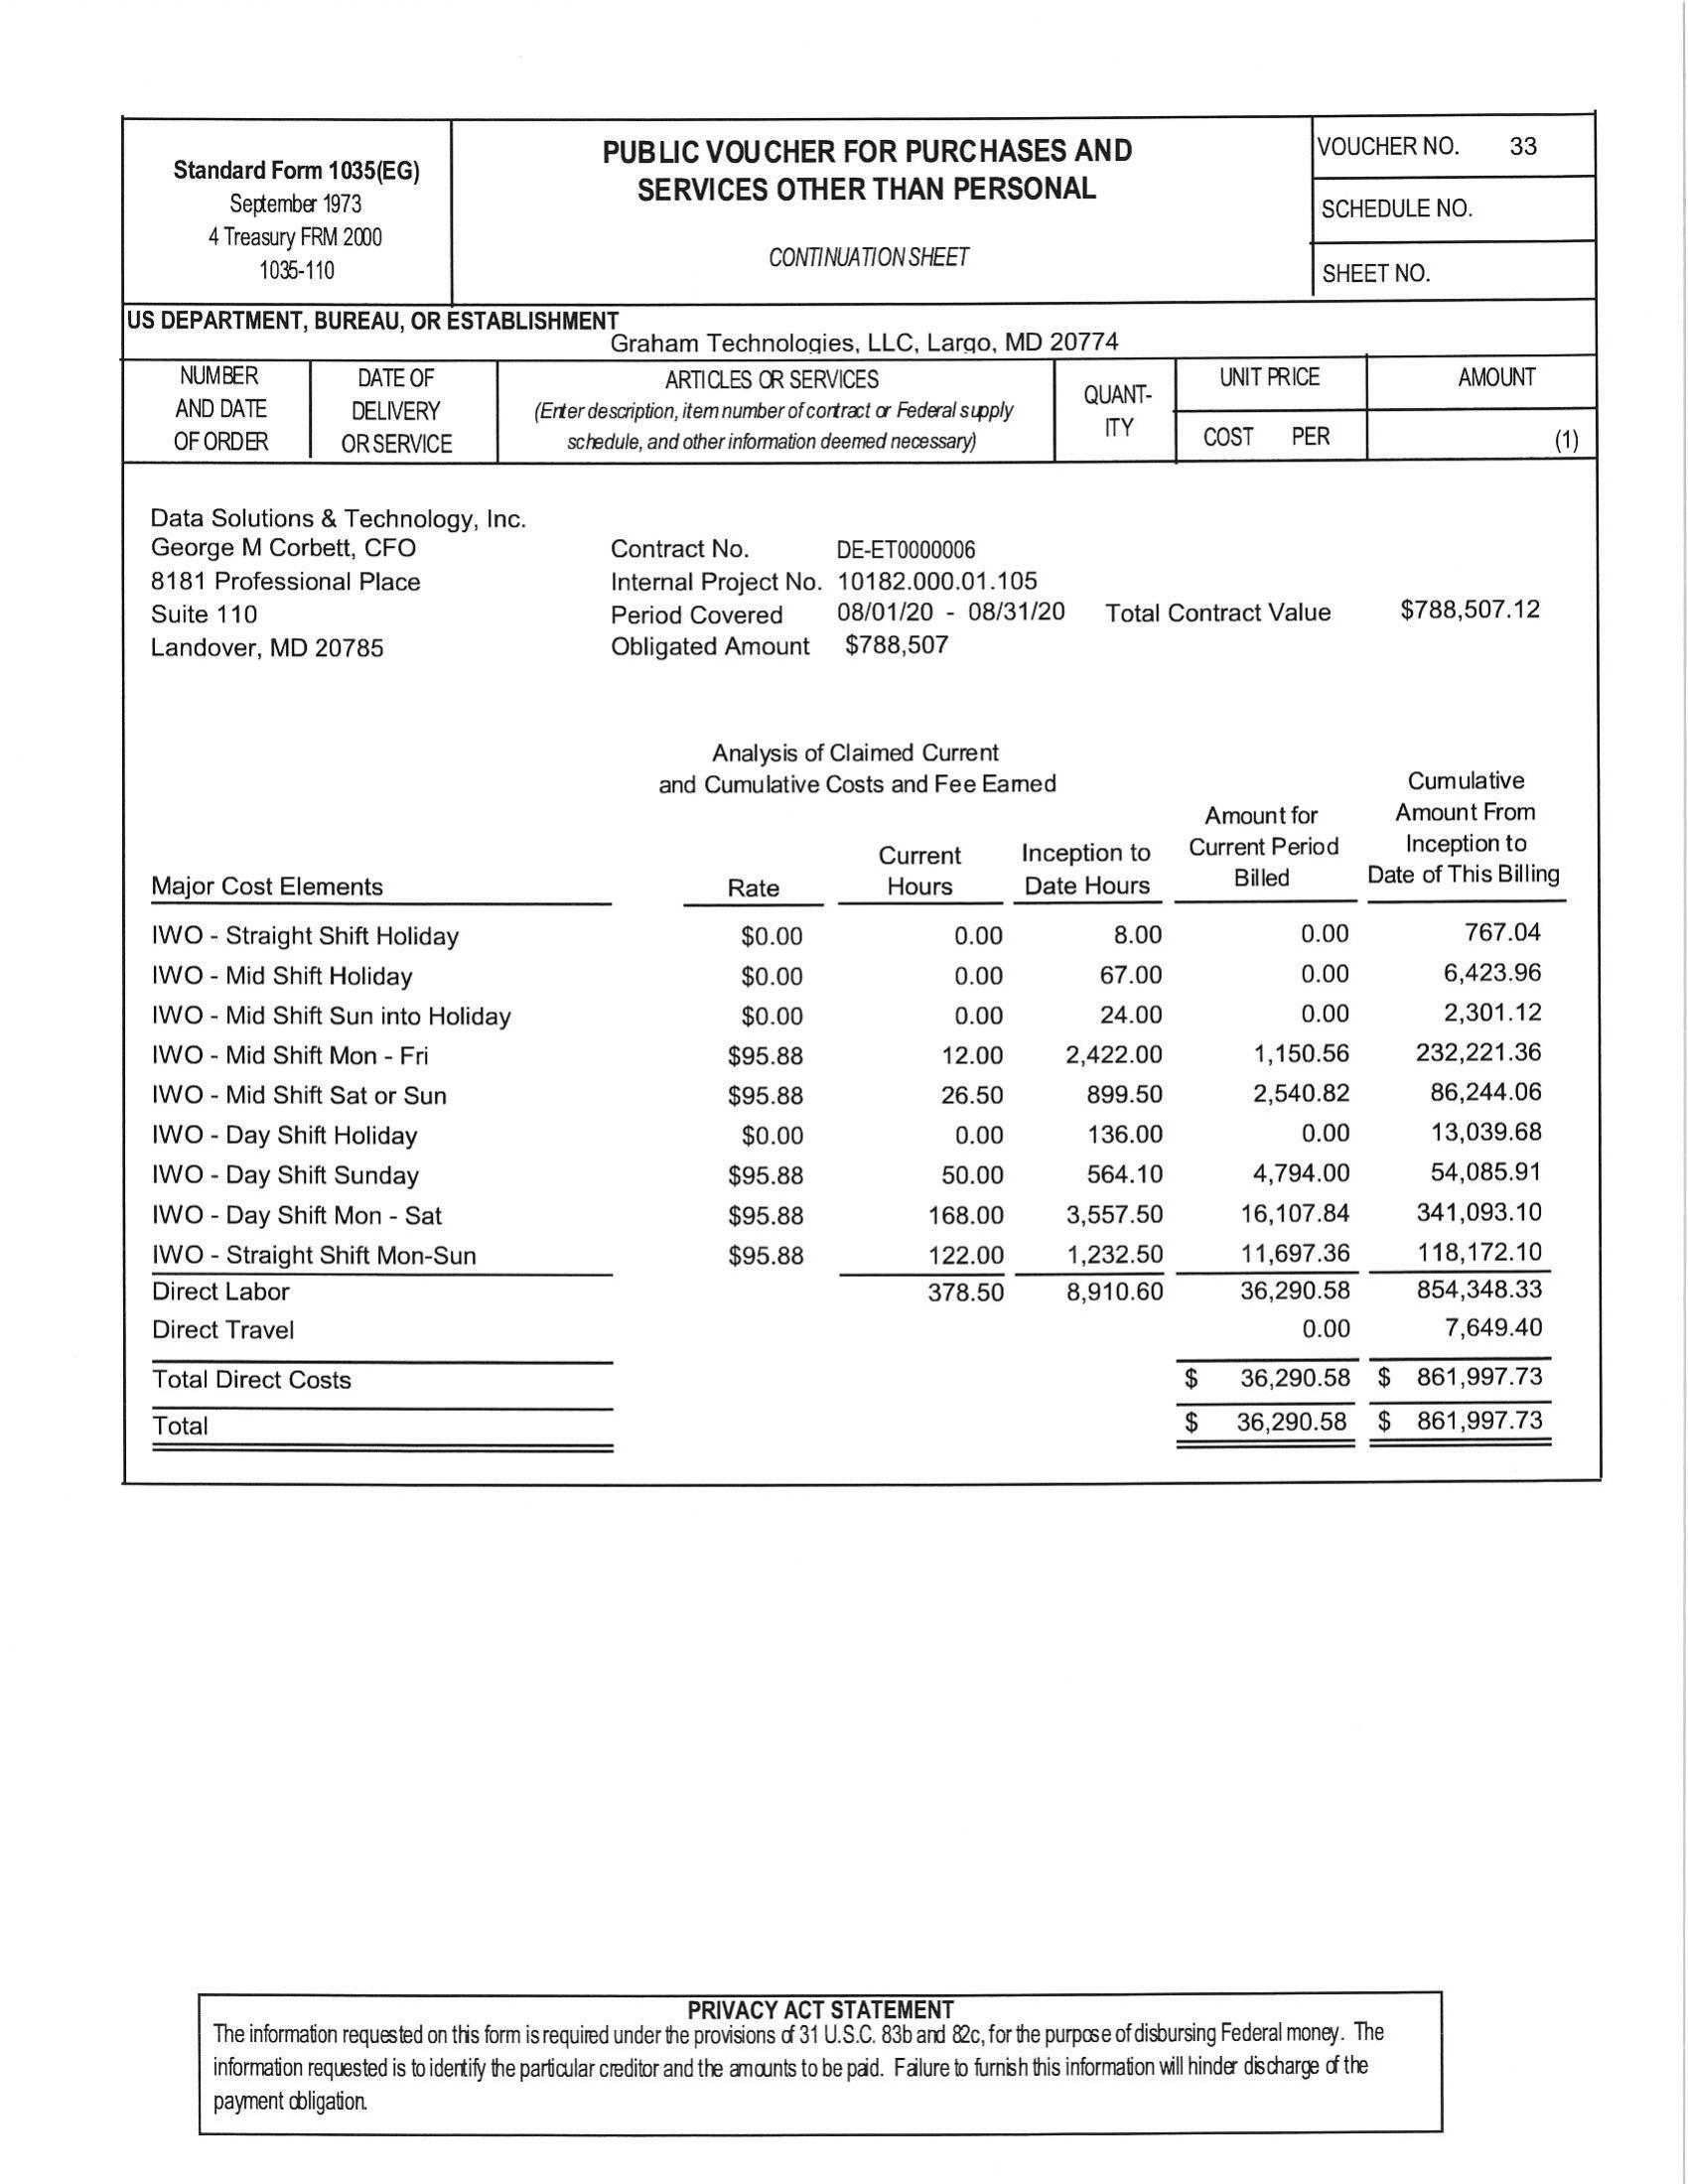table: (121, 759, 1592, 1269)
